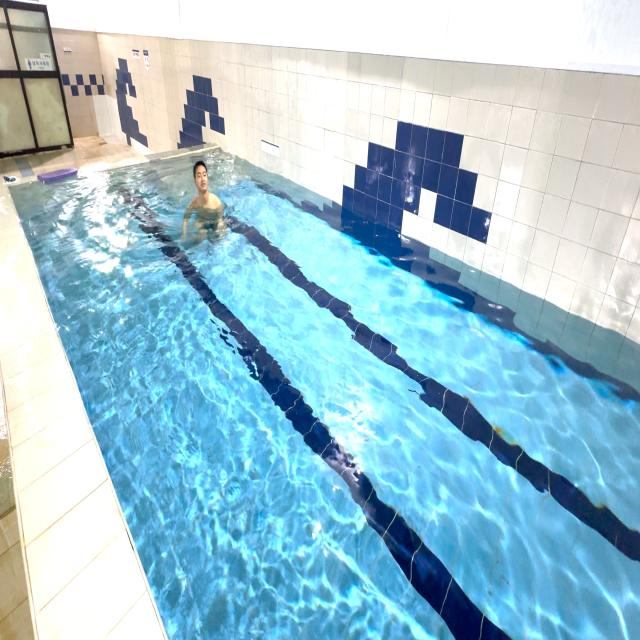Swimming: (176, 147, 234, 245)
